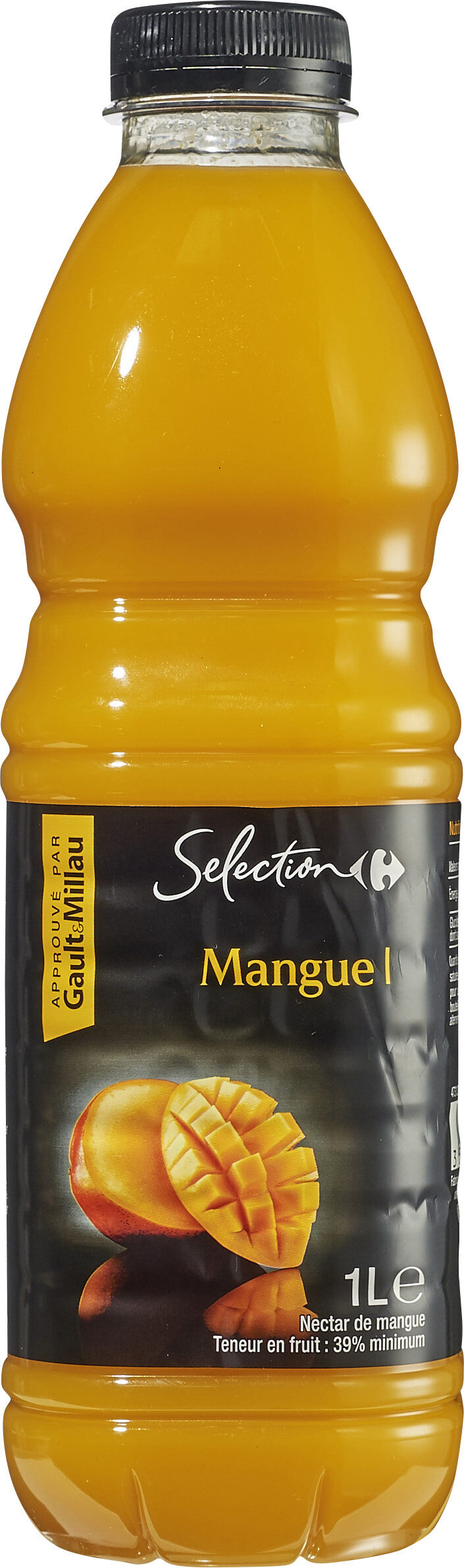Mangue: (23, 78, 441, 1490)
